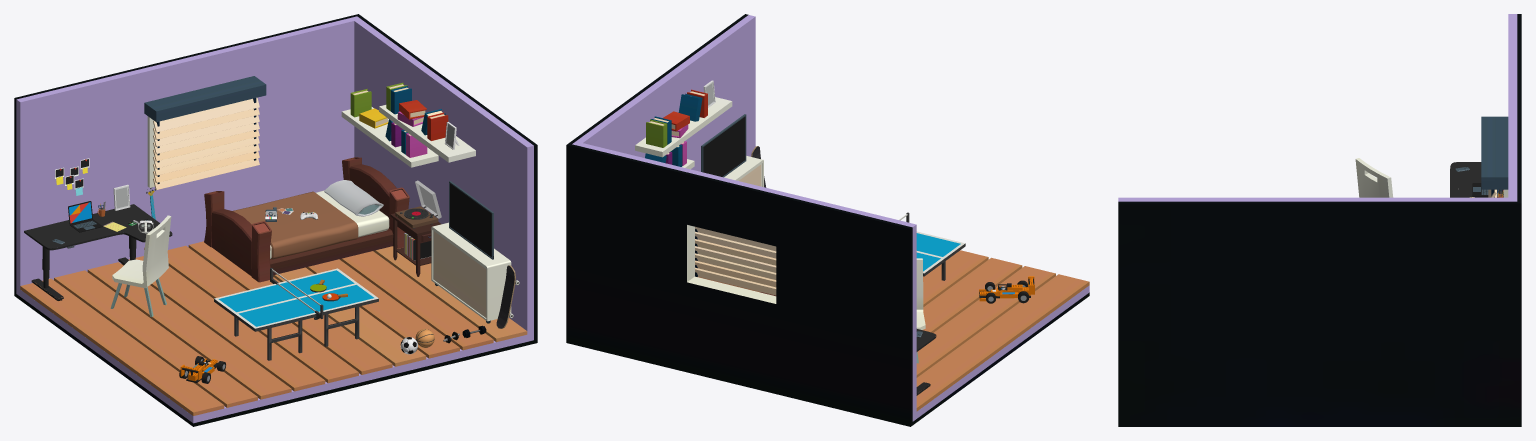
Rendered from room.glb.
3 views of the same model, side by side, from view 1: azimuth 30°, elevation 25°; view 2: azimuth 150°, elevation 25°; view 3: azimuth 270°, elevation 25° (orthographic). The views are drawn at different scales.
Visible parts, largest first — view 1: Walls2, Bed, Wood_Plank10_Colors_0, Wood_Plank9_Colors_0, Box125, Wood_Plank8_Colors_0, Wood_Plank7_Colors_0, Dresser, Wood_Plank1, Wood_Plank5, Desk, Wood_Plank2 (+25 smaller); view 2: Walls2, Wood_Plank10_Colors_0, Wood_Plank9_Colors_0, Wood_Plank8_Colors_0, group1454904968, Wood_Plank7_Colors_0, Box125, Shelf1, lego_mclaren, Dresser, Blind8, Blind3 (+7 smaller); view 3: Walls2, Top_Colors_0.001, Top2, Desk.
Boxes of the visible parts, x1,y1,x2,y2 form: Walls2: [14, 14, 537, 426]; Bed: [204, 157, 409, 282]; Wood_Plank10_Colors_0: [20, 278, 224, 415]; Wood_Plank9_Colors_0: [54, 270, 257, 407]; Box125: [214, 268, 378, 331]; Wood_Plank8_Colors_0: [87, 262, 291, 399]; Wood_Plank7_Colors_0: [121, 256, 325, 391]; Dresser: [431, 222, 511, 323]; Wood_Plank1: [167, 245, 358, 383]; Wood_Plank5: [339, 251, 493, 350]; Desk: [24, 204, 172, 300]; Wood_Plank2: [188, 241, 392, 374]; Walls2: [566, 14, 1089, 426]; Wood_Plank10_Colors_0: [916, 274, 1089, 411]; Wood_Plank9_Colors_0: [916, 266, 1055, 377]; Wood_Plank8_Colors_0: [922, 257, 1022, 332]; group1454904968: [701, 114, 746, 177]; Wood_Plank7_Colors_0: [923, 250, 988, 306]; Box125: [916, 231, 965, 276]; Shelf1: [635, 97, 732, 157]; lego_mclaren: [979, 276, 1034, 303]; Dresser: [724, 155, 763, 187]; Blind8: [695, 267, 776, 295]; Blind3: [695, 231, 776, 258]; Walls2: [1118, 14, 1521, 426]; Top_Colors_0.001: [1481, 116, 1508, 189]; Top2: [1355, 158, 1393, 197]; Desk: [1450, 162, 1503, 197].
Size of the model in its own units: 5 by 2.75 by 4.5.
120 materials, 8 textured.
